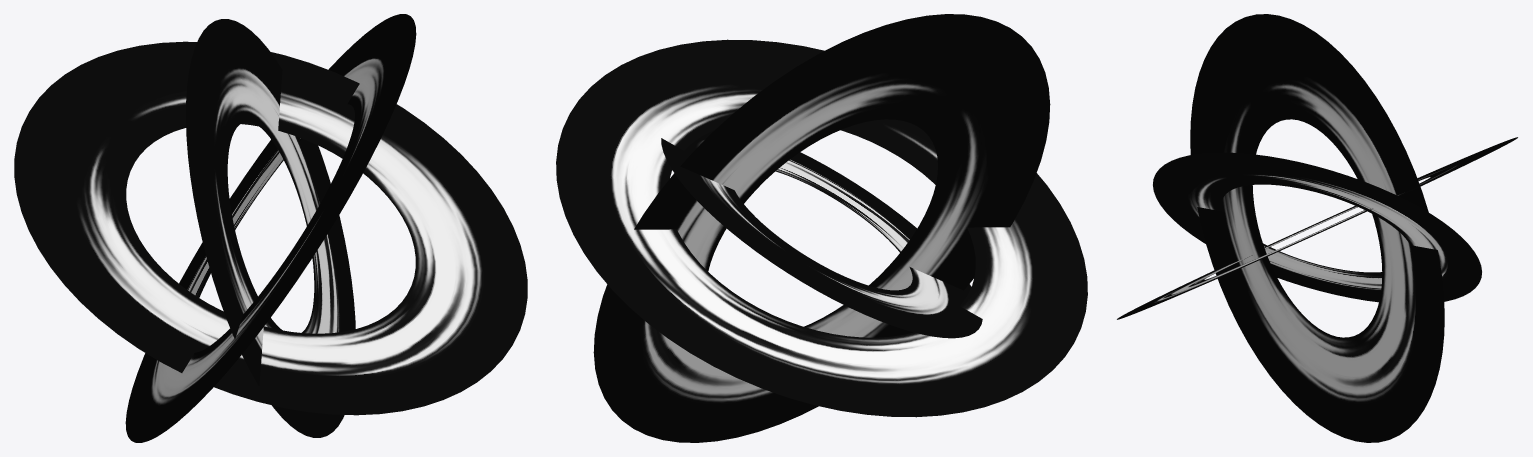
File: RingWind.fbx
3 views of the same model, side by side, from view 1: azimuth 30°, elevation 25°; view 2: azimuth 150°, elevation 25°; view 3: azimuth 270°, elevation 25° (orthographic). The views are drawn at different scales.
Parts seen in each view (by area): view 1: SM_e_Plc_P1011_Ring004.001; view 2: SM_e_Plc_P1011_Ring004.001; view 3: SM_e_Plc_P1011_Ring004.001.
Part boxes in pixels (x1,y1,x2,y2): SM_e_Plc_P1011_Ring004.001: (14,14,527,442); SM_e_Plc_P1011_Ring004.001: (556,14,1087,442); SM_e_Plc_P1011_Ring004.001: (1117,14,1517,442).
Size of the model in its own units: 733 by 833 by 867.
